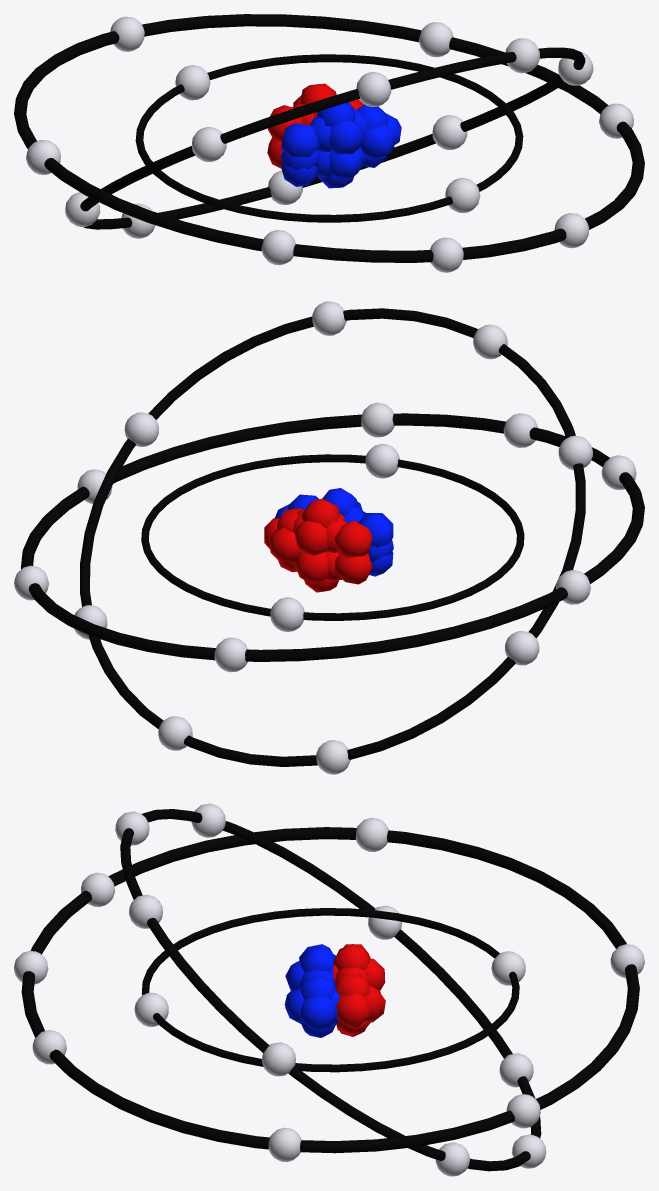
The model's file is 17 Cloro.fbx.
3 views of the same model, one above another, from view 1: azimuth 30°, elevation 25°; view 2: azimuth 150°, elevation 25°; view 3: azimuth 270°, elevation 25° (orthographic). The views are drawn at different scales.
Parts seen in each view (by area): view 1: Orbita.003, Nucleo.003, Orbita.002, Orbita.001, Electron.002, Electron.011, Electron.015, Electron.016, Electron.009, Electron.004, Electron, Electron.001 (+9 smaller); view 2: Orbita.003, Orbita.002, Nucleo.003, Orbita.001, Electron.001, Electron, Electron.008, Electron.014, Electron.007, Electron.006, Electron.010, Electron.005 (+7 smaller); view 3: Orbita.003, Orbita.002, Nucleo.003, Orbita.001, Electron.008, Electron.013, Electron.012, Electron.015, Electron.001, Electron.006, Electron, Electron.010 (+9 smaller).
Boxes of the visible parts, x1,y1,x2,y2 form: Orbita.003: [14, 14, 644, 262]; Nucleo.003: [267, 83, 401, 188]; Orbita.002: [80, 47, 585, 229]; Orbita.001: [135, 54, 523, 222]; Electron.002: [356, 72, 391, 106]; Electron.011: [261, 230, 295, 265]; Electron.015: [418, 22, 453, 57]; Electron.016: [429, 237, 463, 272]; Electron.009: [192, 127, 226, 161]; Electron.004: [432, 115, 467, 149]; Electron: [445, 178, 480, 212]; Electron.001: [175, 65, 210, 100]; Orbita.003: [21, 413, 644, 661]; Orbita.002: [80, 308, 585, 766]; Nucleo.003: [264, 488, 393, 592]; Orbita.001: [141, 454, 524, 620]; Electron.001: [270, 597, 304, 631]; Electron: [365, 443, 399, 478]; Electron.008: [124, 412, 158, 446]; Electron.014: [361, 402, 394, 437]; Electron.007: [505, 631, 539, 665]; Electron.006: [316, 740, 350, 774]; Electron.010: [312, 301, 346, 335]; Electron.005: [214, 637, 247, 672]; Orbita.003: [21, 827, 639, 1153]; Orbita.002: [120, 809, 541, 1171]; Nucleo.003: [284, 944, 385, 1037]; Orbita.001: [141, 908, 519, 1072]; Electron.008: [262, 1042, 295, 1076]; Electron.013: [268, 1127, 301, 1161]; Electron.012: [355, 817, 388, 851]; Electron.015: [506, 1094, 540, 1128]; Electron.001: [491, 951, 525, 985]; Electron.006: [499, 1053, 533, 1087]; Electron: [134, 992, 168, 1026]; Electron.010: [129, 894, 162, 928].
Bounding box in the file's own units: 12.41 × 12.38 × 6.49.
